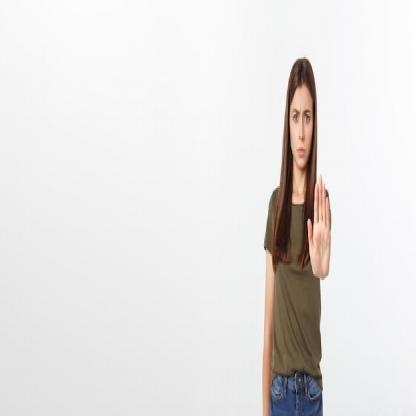stop: (305, 169, 332, 282)
